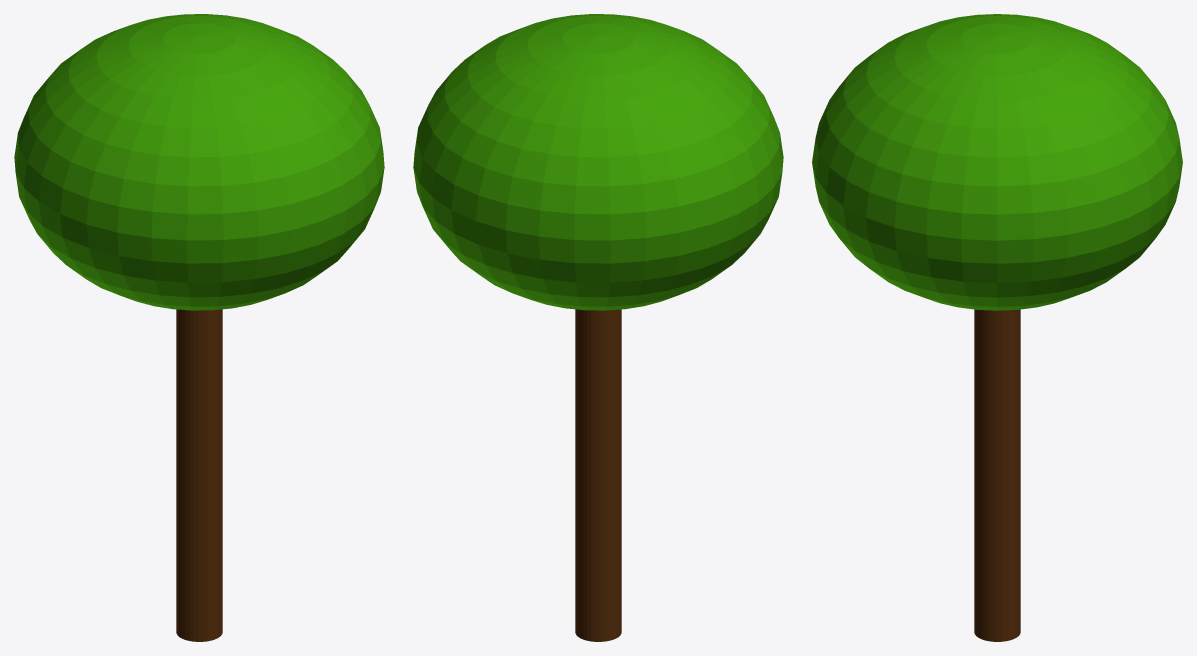
Rendered from Tree.glb.
The picture shows the model from 3 angles, left to right: view 1: azimuth 30°, elevation 25°; view 2: azimuth 150°, elevation 25°; view 3: azimuth 270°, elevation 25°; orthographic projection.
Parts seen in each view (by area): view 1: Sphere, Cylinder; view 2: Sphere, Cylinder; view 3: Sphere, Cylinder.
Part boxes in pixels (bbox=[...]): Sphere: bbox=[14, 14, 384, 310]; Cylinder: bbox=[176, 309, 222, 641]; Sphere: bbox=[413, 14, 783, 310]; Cylinder: bbox=[575, 309, 621, 641]; Sphere: bbox=[812, 14, 1182, 310]; Cylinder: bbox=[974, 309, 1020, 641].
Size of the model in its own units: 8 by 14.18 by 8.
